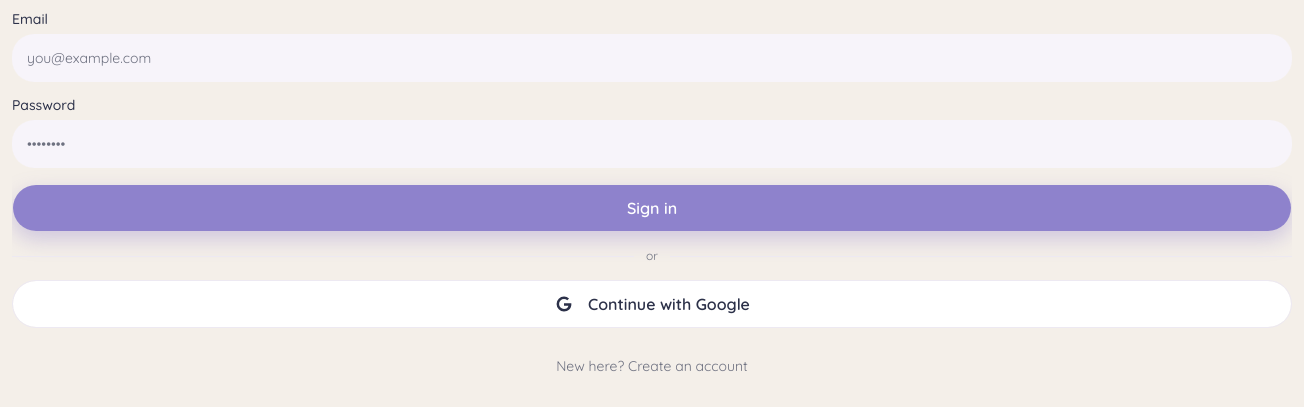
Test: SignInForm › toggles to create-account mode
Step 1. Click the button "New here? Create an account" → click(652, 366), box [12, 344, 1292, 388]
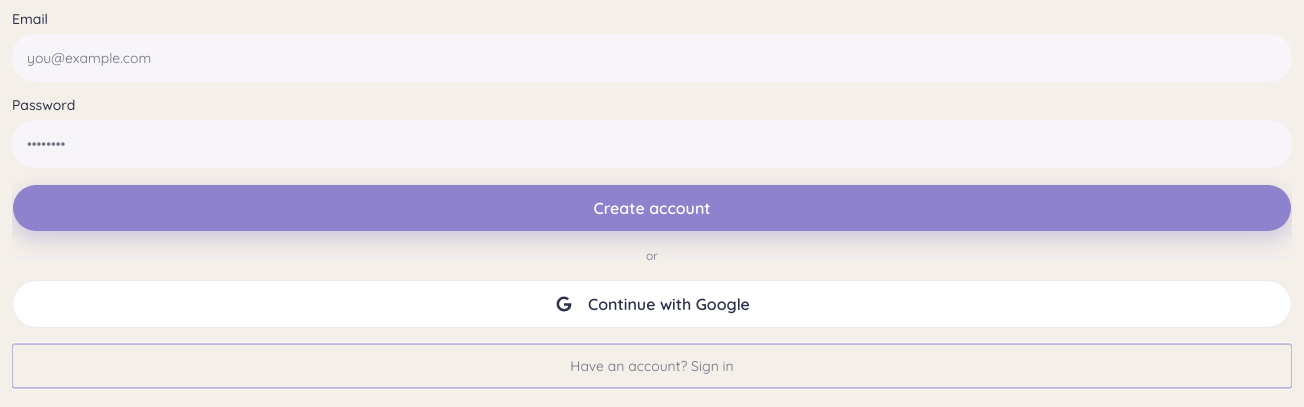
Now the button "Create account" is shown, box [12, 184, 1292, 232]
